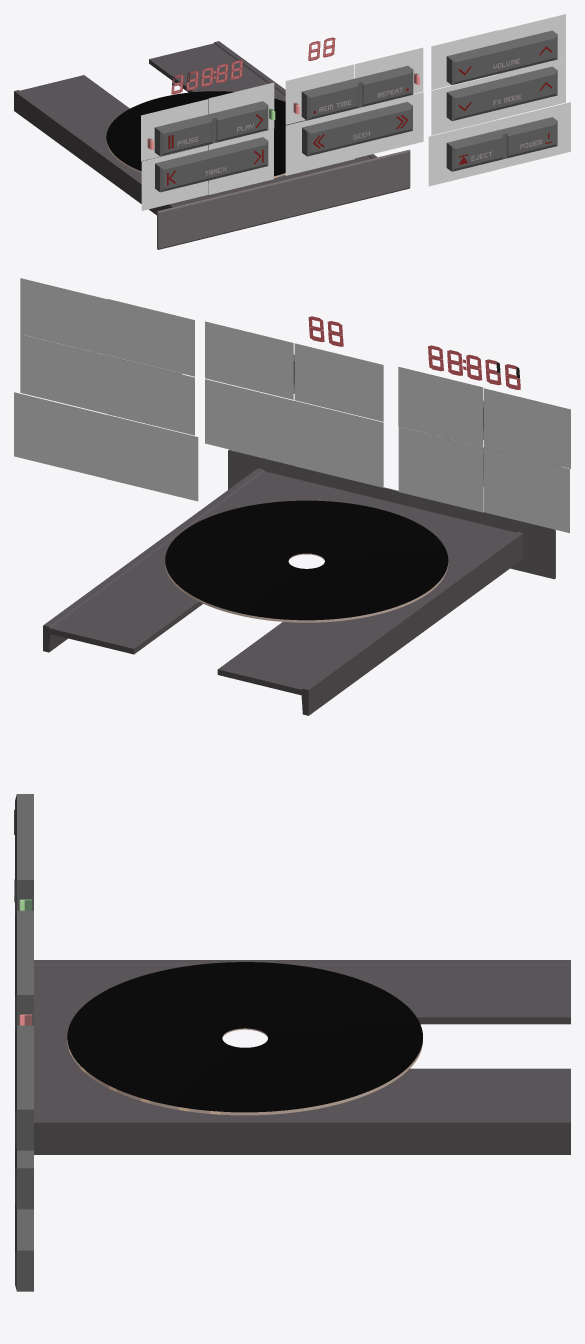
Rendered from saeCdPlayer.glb.
The picture shows the model from 3 angles, top to bottom: view 1: azimuth 30°, elevation 25°; view 2: azimuth 150°, elevation 25°; view 3: azimuth 270°, elevation 25°; orthographic projection. The views are drawn at different scales.
Parts seen in each view (by area): view 1: cdTray, cd, DoubleButton1, DoubleButton2, DoubleButton6, DoubleButton2.001, DoubleButton1.001, DoubleButton4, DoubleButton7, ButtonOpen, ButtonRewind, ButtonStandby (+11 smaller); view 2: cdTray, cd, ButtonOpen, ButtonStandby, ButtonFastForward, ButtonRewind, ButtonNext, ButtonPrev, ButtonPause, ButtonFxUp, ButtonTimeMode, ButtonFxDown (+4 smaller); view 3: cdTray, cd, DoubleButton6, DoubleButton1, DoubleButton4, DoubleButton1.001, DoubleButton7.
Part boxes in pixels (x1=…): cdTray: x1=14, y1=41, x2=410, y2=249; cd: x1=106, y1=91, x2=306, y2=184; DoubleButton1: x1=154, y1=101, x2=268, y2=156; DoubleButton2: x1=155, y1=137, x2=268, y2=192; DoubleButton6: x1=446, y1=30, x2=557, y2=84; DoubleButton2.001: x1=302, y1=102, x2=412, y2=156; DoubleButton1.001: x1=446, y1=117, x2=557, y2=171; DoubleButton4: x1=301, y1=65, x2=413, y2=120; DoubleButton7: x1=446, y1=66, x2=557, y2=120; ButtonOpen: x1=428, y1=119, x2=499, y2=186; ButtonRewind: x1=285, y1=109, x2=354, y2=175; ButtonStandby: x1=499, y1=102, x2=570, y2=168; cdTray: x1=43, y1=449, x2=555, y2=715; cd: x1=165, y1=500, x2=448, y2=622; ButtonOpen: x1=106, y1=415, x2=198, y2=501; ButtonStandby: x1=14, y1=392, x2=106, y2=478; ButtonFastForward: x1=205, y1=379, x2=295, y2=465; ButtonRewind: x1=294, y1=400, x2=383, y2=487; ButtonNext: x1=398, y1=427, x2=483, y2=512; ButtonPrev: x1=483, y1=448, x2=569, y2=533; ButtonPause: x1=483, y1=388, x2=570, y2=468; ButtonFxUp: x1=20, y1=334, x2=107, y2=413; ButtonTimeMode: x1=294, y1=343, x2=383, y2=421; ButtonFxDown: x1=107, y1=356, x2=194, y2=435; cdTray: x1=34, y1=960, x2=570, y2=1154; cd: x1=67, y1=962, x2=422, y2=1115; DoubleButton6: x1=15, y1=1025, x2=33, y2=1150; DoubleButton1: x1=14, y1=794, x2=33, y2=915; DoubleButton4: x1=15, y1=910, x2=33, y2=1030; DoubleButton1.001: x1=15, y1=1203, x2=33, y2=1291; DoubleButton7: x1=15, y1=1144, x2=33, y2=1209.
Size of the model in its own units: 4.66 by 1.75 by 3.21.
